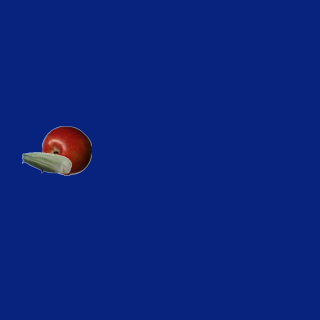Apple Braeburn: (41, 125, 91, 175)
Corn Husk: (21, 137, 71, 187)
